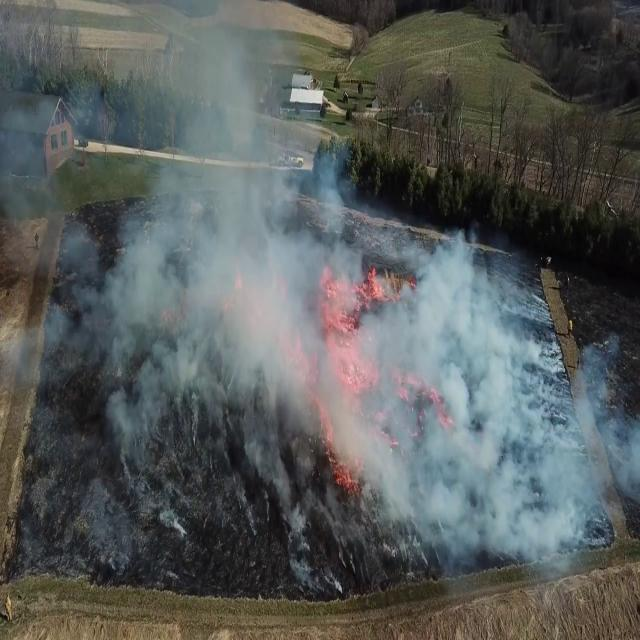Smoke: (1, 13, 380, 562), (301, 223, 640, 596)
